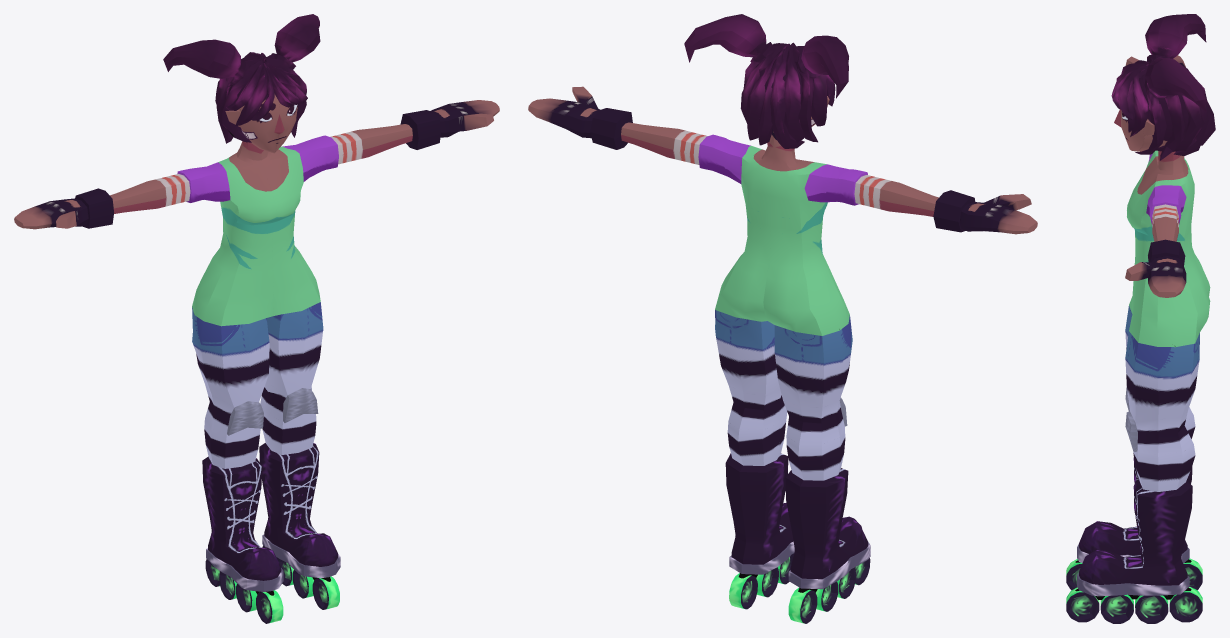
File: Rally.glb
The picture shows the model from 3 angles, left to right: view 1: azimuth 30°, elevation 25°; view 2: azimuth 150°, elevation 25°; view 3: azimuth 270°, elevation 25°; orthographic projection. The views are drawn at different scales.
Parts seen in each view (by area): view 1: Cuerpo.001; view 2: Cuerpo.001; view 3: Cuerpo.001.
Boxes of the visible parts, x1,y1,x2,y2 form: Cuerpo.001: [14, 14, 499, 623]; Cuerpo.001: [528, 14, 1037, 623]; Cuerpo.001: [1066, 14, 1215, 623].
Bounding box in the file's own units: 147 × 162 × 38.76.
1 material, 1 textured.
